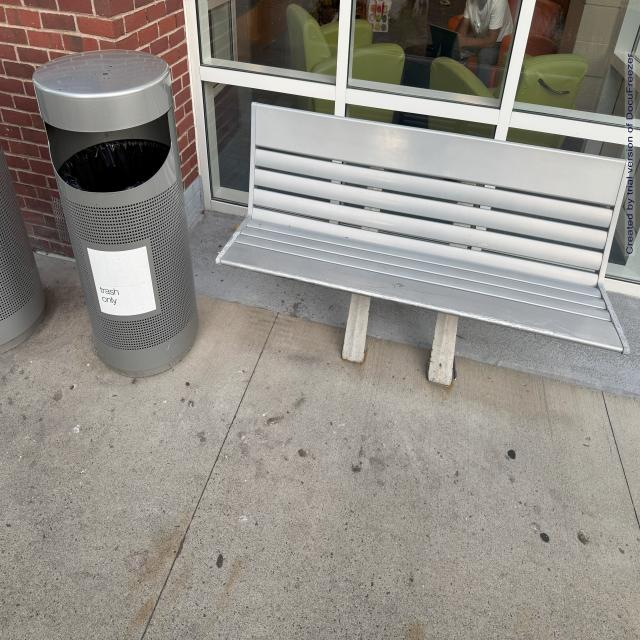Trash bin: (22, 38, 214, 391)
chair: (214, 86, 635, 406)
